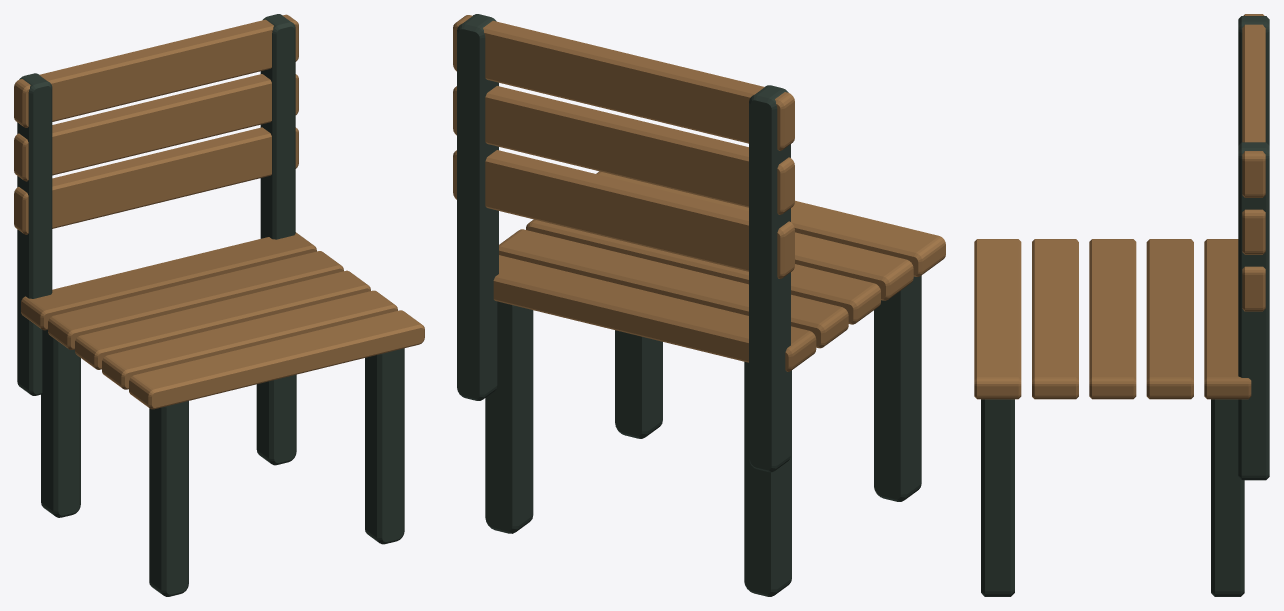
The model's file is chair.glb.
3 views of the same model, side by side, from view 1: azimuth 30°, elevation 25°; view 2: azimuth 150°, elevation 25°; view 3: azimuth 270°, elevation 25° (orthographic). The views are drawn at different scales.
Visible parts, largest first — view 1: SeatSlat (×5), BackSlat (×3), Leg (×4), BackSupport (×2); view 2: BackSlat (×3), SeatSlat (×5), Leg (×4), BackSupport (×2); view 3: SeatSlat (×5), Leg (×2), BackSupport (×2), BackSlat (×3).
Boxes of the visible parts, <box> form: SeatSlat (×5): <box>21,232,424,409</box>; BackSlat (×3): <box>14,14,298,234</box>; Leg (×4): <box>41,330,404,596</box>; BackSupport (×2): <box>17,14,295,395</box>; BackSlat (×3): <box>453,15,794,278</box>; SeatSlat (×5): <box>493,171,945,371</box>; Leg (×4): <box>485,275,921,596</box>; BackSupport (×2): <box>457,14,790,472</box>; SeatSlat (×5): <box>974,239,1251,399</box>; Leg (×2): <box>981,399,1244,596</box>; BackSupport (×2): <box>1238,16,1269,480</box>; BackSlat (×3): <box>1242,14,1265,311</box>.
Bounding box in the file's own units: 0.65 × 0.96 × 0.565.
